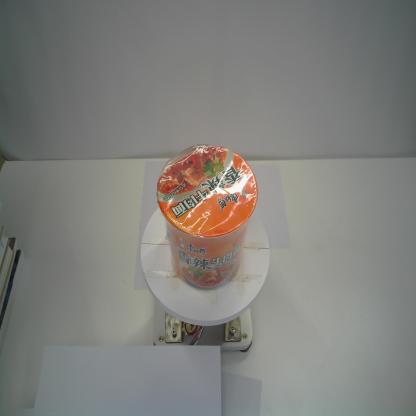Instant Noodles: (156, 144, 258, 291)
